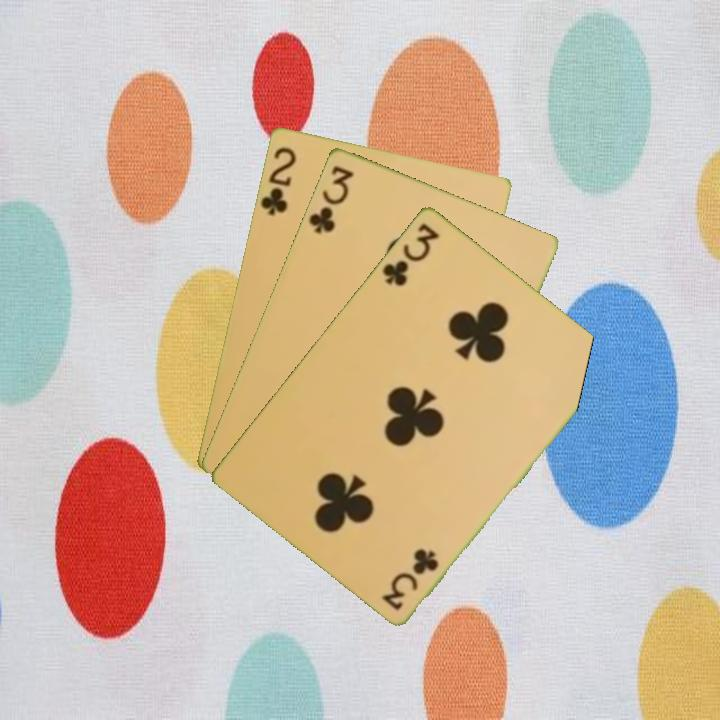2c: (257, 143, 299, 218)
3c: (378, 219, 443, 289), (379, 544, 442, 613), (304, 161, 356, 236)
